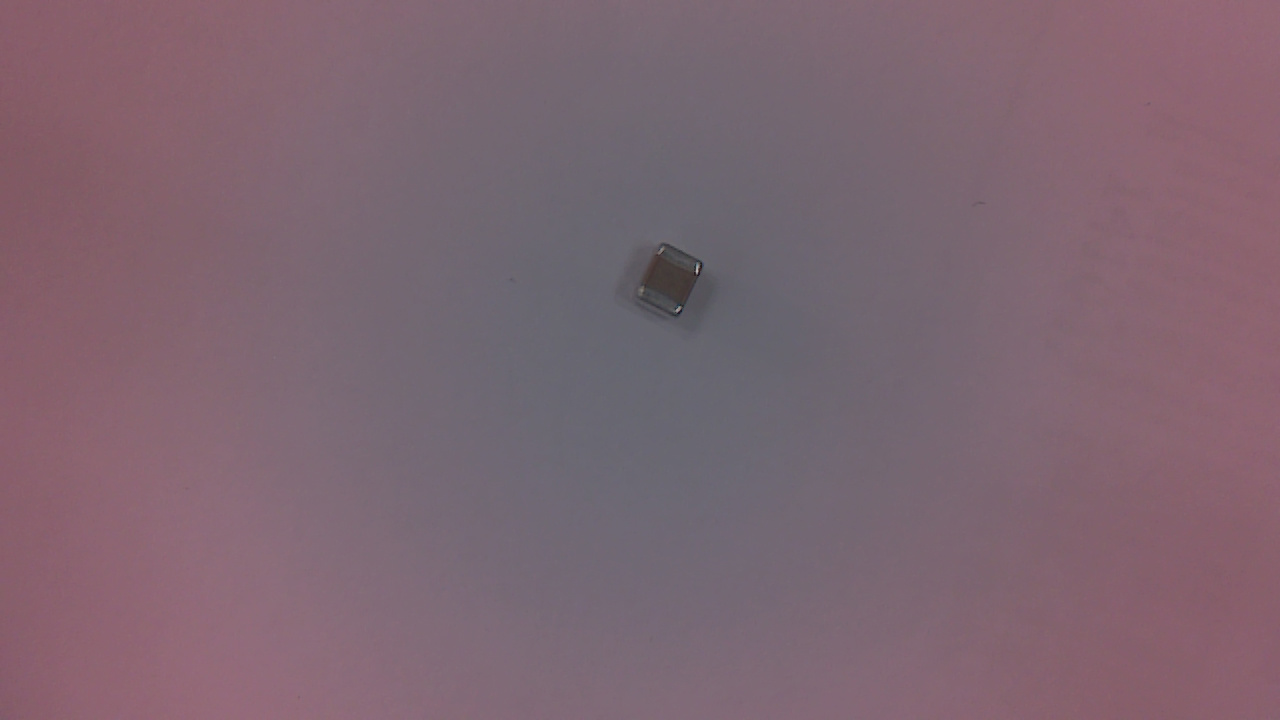Condensator: (636, 243, 710, 327)
